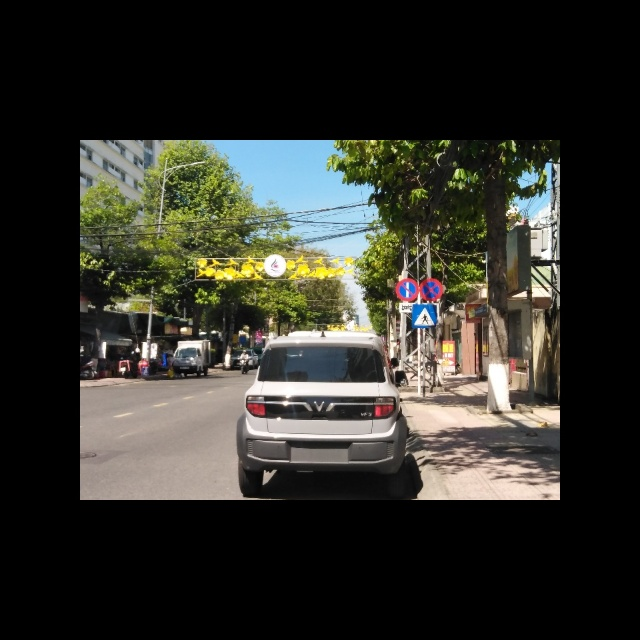Cấm dừng xe và đỗ xe: (420, 278, 443, 301)
Cấm đỗ xe ngày lẻ: (395, 279, 419, 302)
Đường dành cho người đi bộ: (412, 304, 437, 327)
